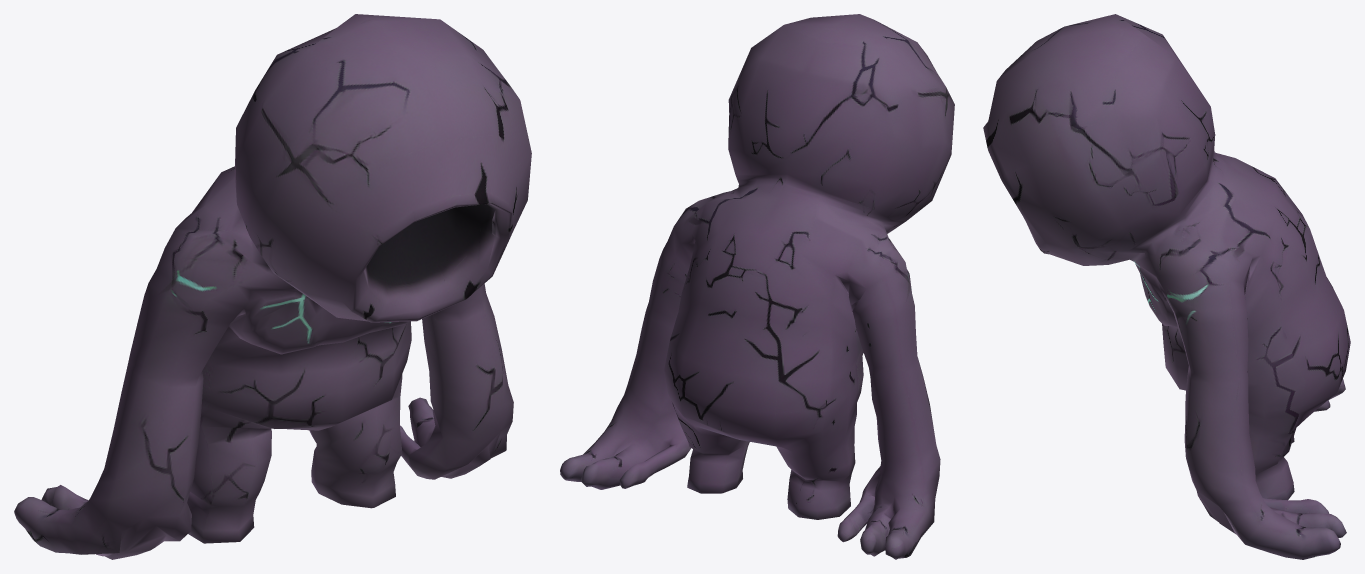
Rendered from creature_normal.glb.
3 views of the same model, side by side, from view 1: azimuth 30°, elevation 25°; view 2: azimuth 150°, elevation 25°; view 3: azimuth 270°, elevation 25° (orthographic). The views are drawn at different scales.
Parts seen in each view (by area): view 1: mesh_node; view 2: mesh_node; view 3: mesh_node.
Part boxes in pixels (bbox=[...]): mesh_node: bbox=[14, 14, 531, 559]; mesh_node: bbox=[560, 14, 954, 559]; mesh_node: bbox=[983, 14, 1350, 559].
Size of the model in its own units: 0.8301 by 1 by 0.7402.
Materials: 1 (1 with a texture image).
